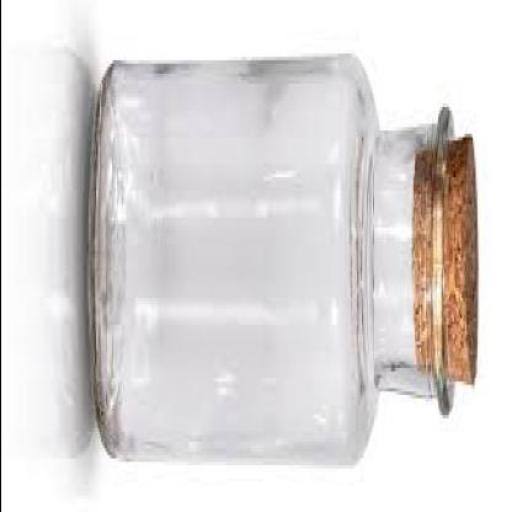glass: (89, 64, 454, 475)
